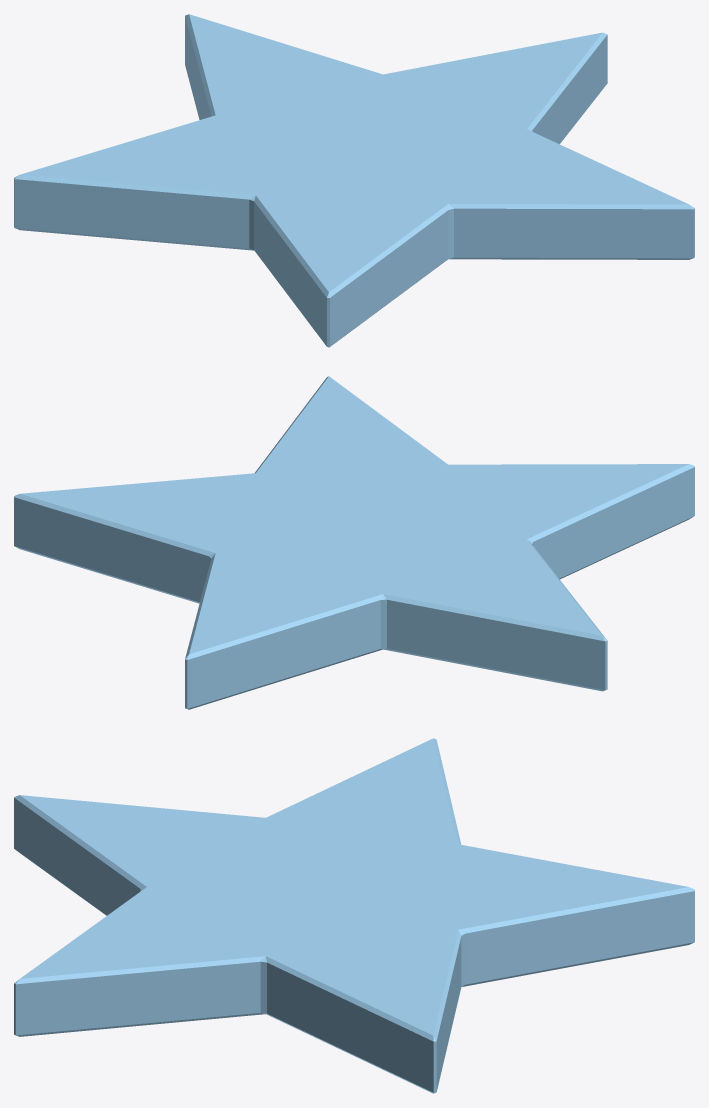
Rendered from star.fbx.
3 views of the same model, one above another, from view 1: azimuth 30°, elevation 25°; view 2: azimuth 150°, elevation 25°; view 3: azimuth 270°, elevation 25° (orthographic). The views are drawn at different scales.
Parts seen in each view (by area): view 1: Circle.001; view 2: Circle.001; view 3: Circle.001.
Part boxes in pixels (<box>): Circle.001: <box>14,14,694,347</box>; Circle.001: <box>14,376,694,709</box>; Circle.001: <box>14,738,694,1093</box>.
Bounding box in the file's own units: 189 × 179 × 16.88.
